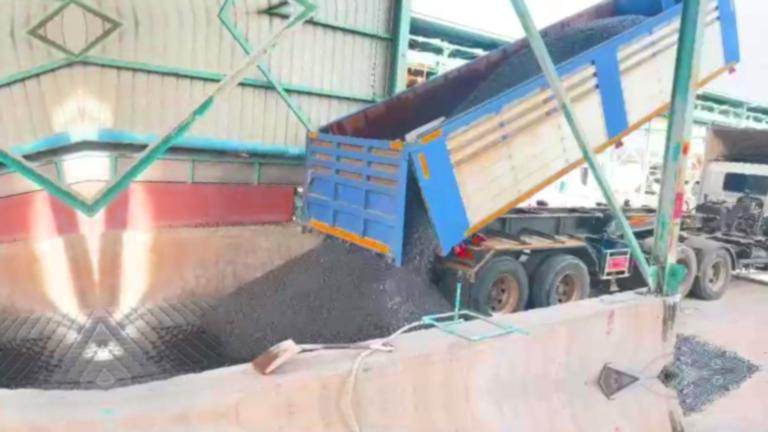gravel: (203, 182, 449, 360), (451, 46, 540, 115), (543, 15, 647, 63), (661, 334, 759, 376)
